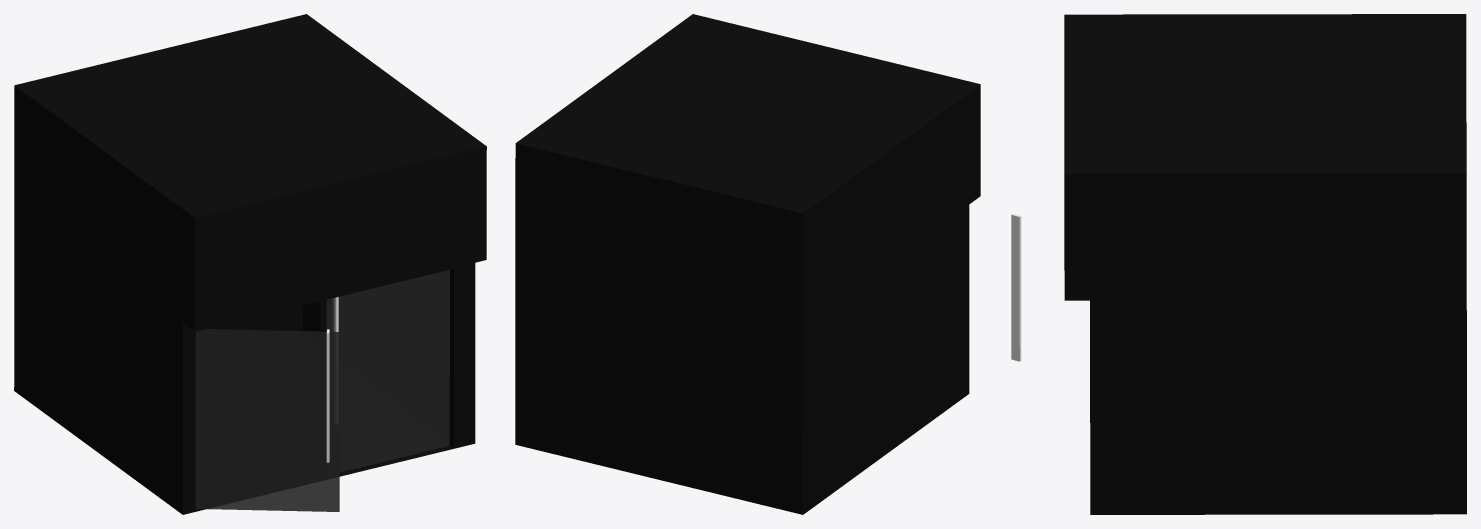
The model's file is Coffee_House.glb.
The picture shows the model from 3 angles, left to right: view 1: azimuth 30°, elevation 25°; view 2: azimuth 150°, elevation 25°; view 3: azimuth 270°, elevation 25°; orthographic projection. The views are drawn at different scales.
Parts seen in each view (by area): view 1: coffeeHouse; view 2: coffeeHouse; view 3: coffeeHouse.
Part boxes in pixels (left/top/right/bottom): coffeeHouse: left=14, top=14, right=486, bottom=514; coffeeHouse: left=515, top=14, right=980, bottom=514; coffeeHouse: left=1011, top=14, right=1466, bottom=514.
Size of what is drawn, in the model's own units: 5.12 by 5.13 by 6.22.
Materials: 2 (2 with a texture image).
